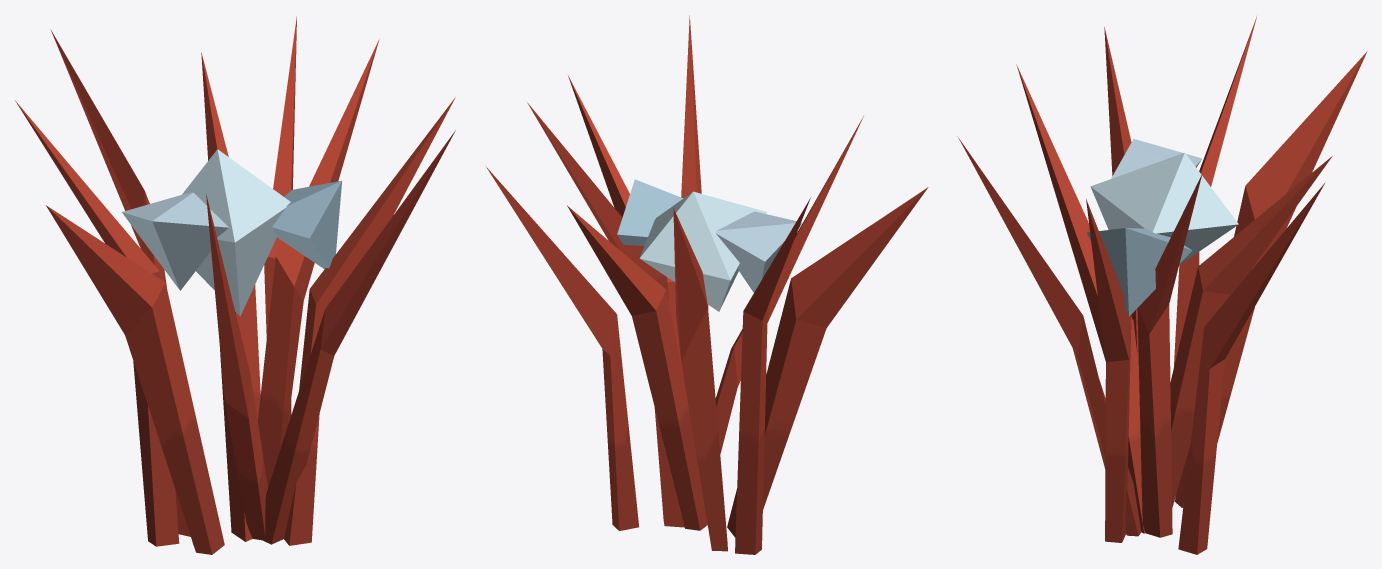
Rendered from worlds_SM_Env_Plant_Grass_Flower_03.gltf.
3 renders of one model, left to right at view 1: azimuth 30°, elevation 25°; view 2: azimuth 150°, elevation 25°; view 3: azimuth 270°, elevation 25°, orthographic. The views are drawn at different scales.
Visible parts, largest first — view 1: SM_Env_Plant_Grass_Flower_03; view 2: SM_Env_Plant_Grass_Flower_03; view 3: SM_Env_Plant_Grass_Flower_03.
Boxes of the visible parts, bbox=[...] form: SM_Env_Plant_Grass_Flower_03: bbox=[15, 16, 455, 554]; SM_Env_Plant_Grass_Flower_03: bbox=[486, 15, 928, 554]; SM_Env_Plant_Grass_Flower_03: bbox=[957, 16, 1367, 554].
Bounding box in the file's own units: 1.55 × 1.67 × 1.42.
1 material, 1 textured.
